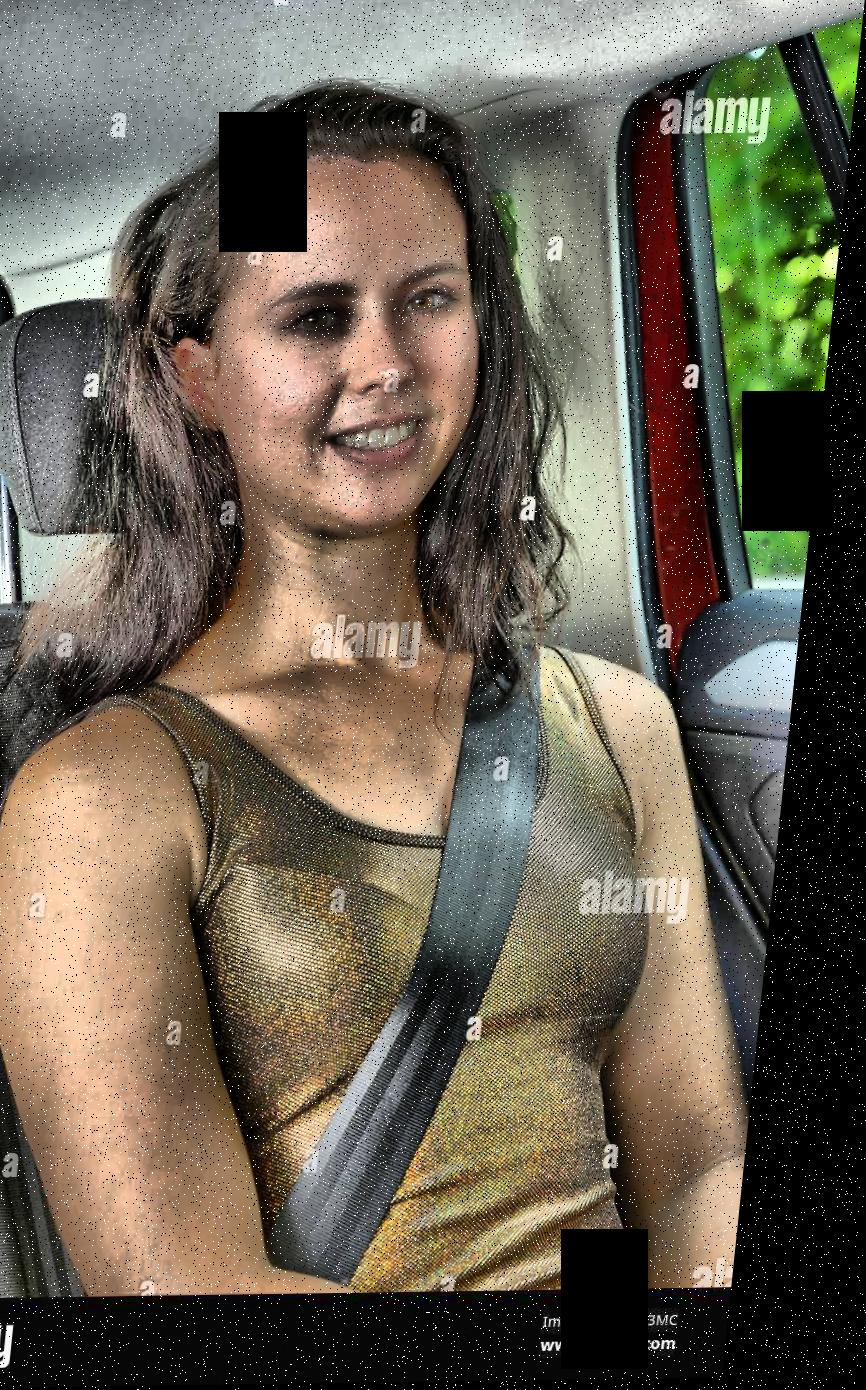seatbelt: (289, 425, 666, 1294)
